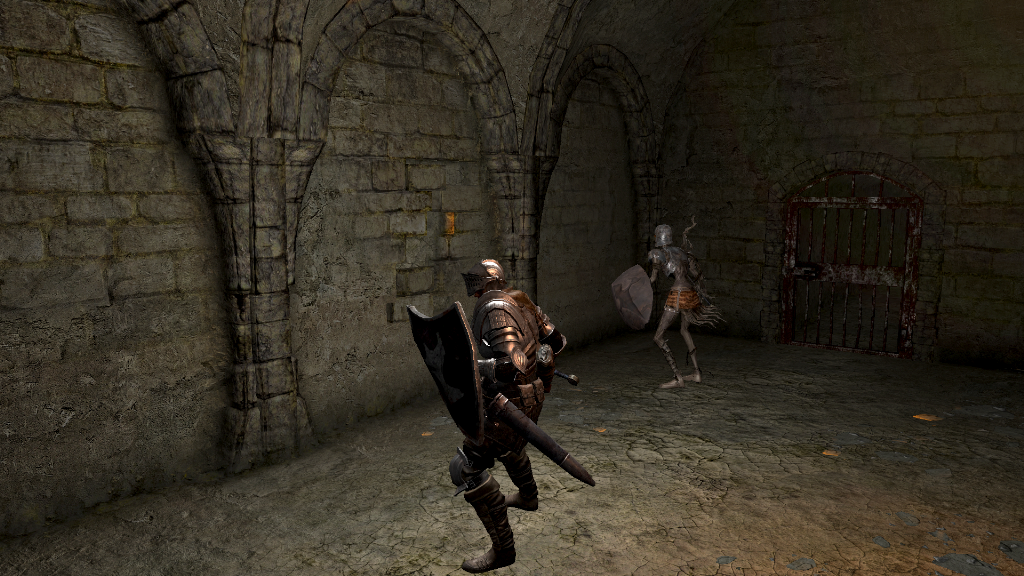player: (405, 259, 582, 571)
undeadSoldier: (636, 222, 709, 389)
